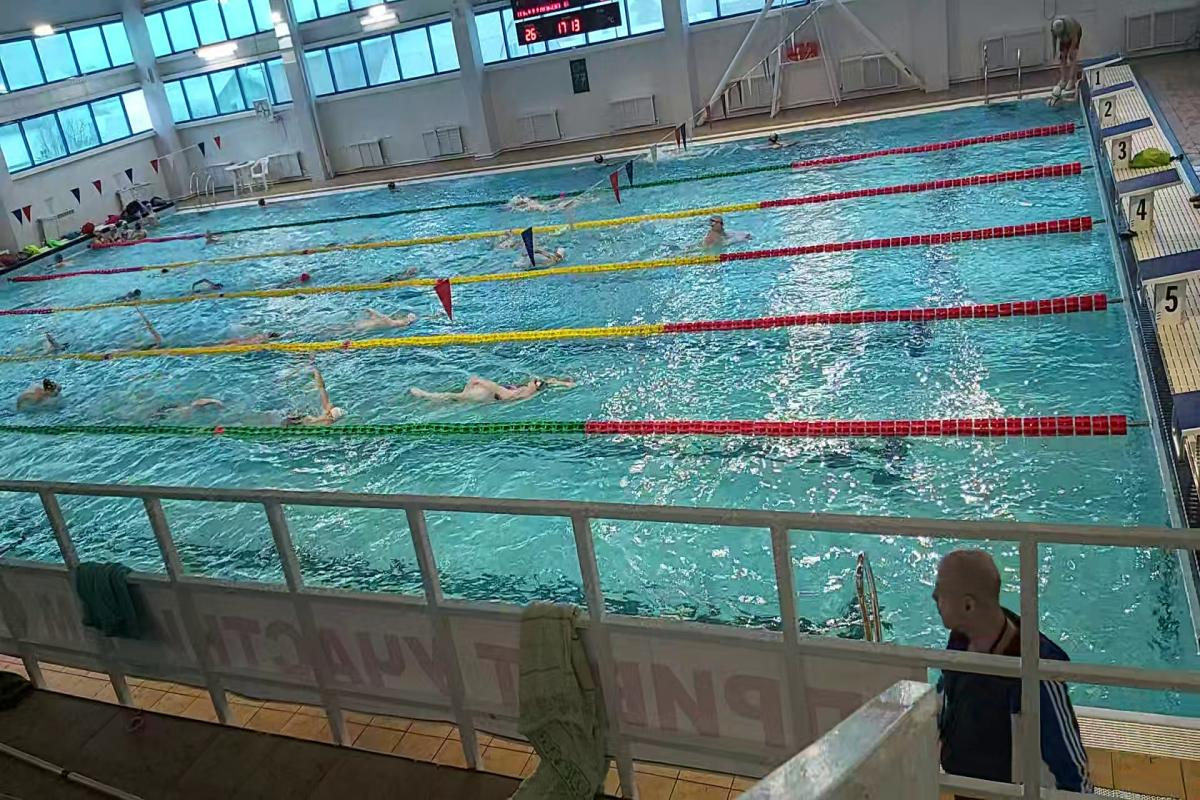swimmer: (408, 356, 578, 412), (273, 375, 358, 424), (347, 303, 425, 339), (146, 393, 228, 426), (699, 214, 755, 252), (22, 378, 70, 421), (512, 189, 593, 211), (127, 315, 179, 346), (516, 246, 570, 268), (232, 325, 296, 343), (38, 329, 78, 355), (192, 276, 232, 296), (284, 265, 316, 288)
